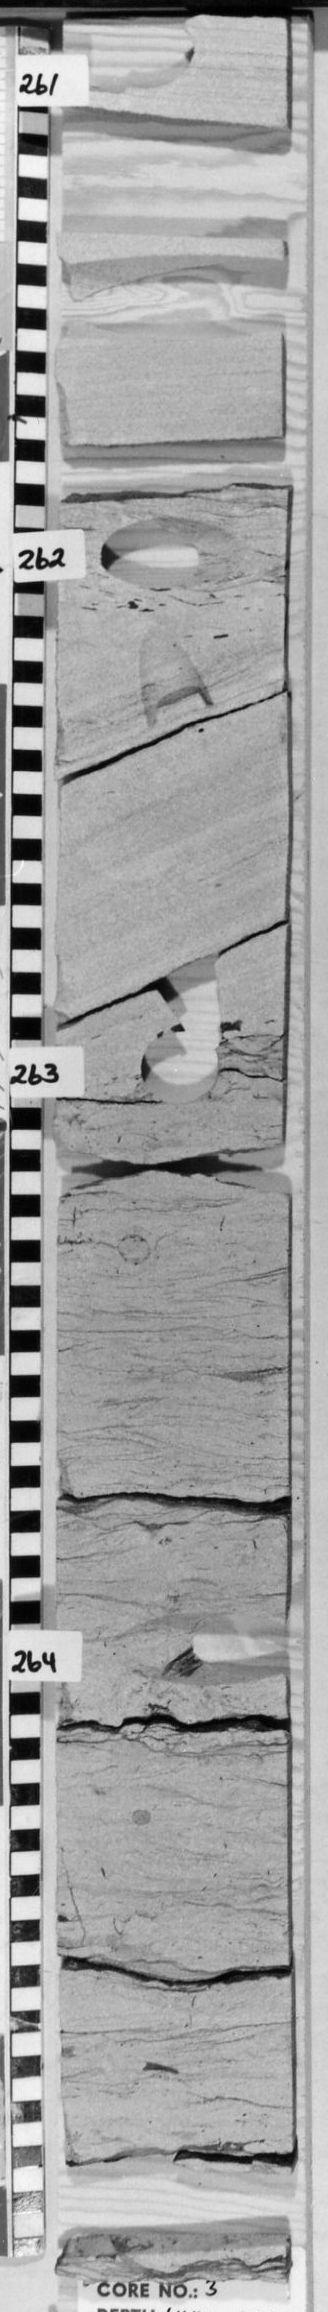hplug: (111, 1594, 287, 1696), (95, 513, 262, 606), (69, 18, 213, 106), (129, 1031, 239, 1113)
scal: (66, 2139, 290, 2277), (62, 251, 287, 355)
vplug: (145, 945, 247, 1035), (130, 633, 219, 734)
